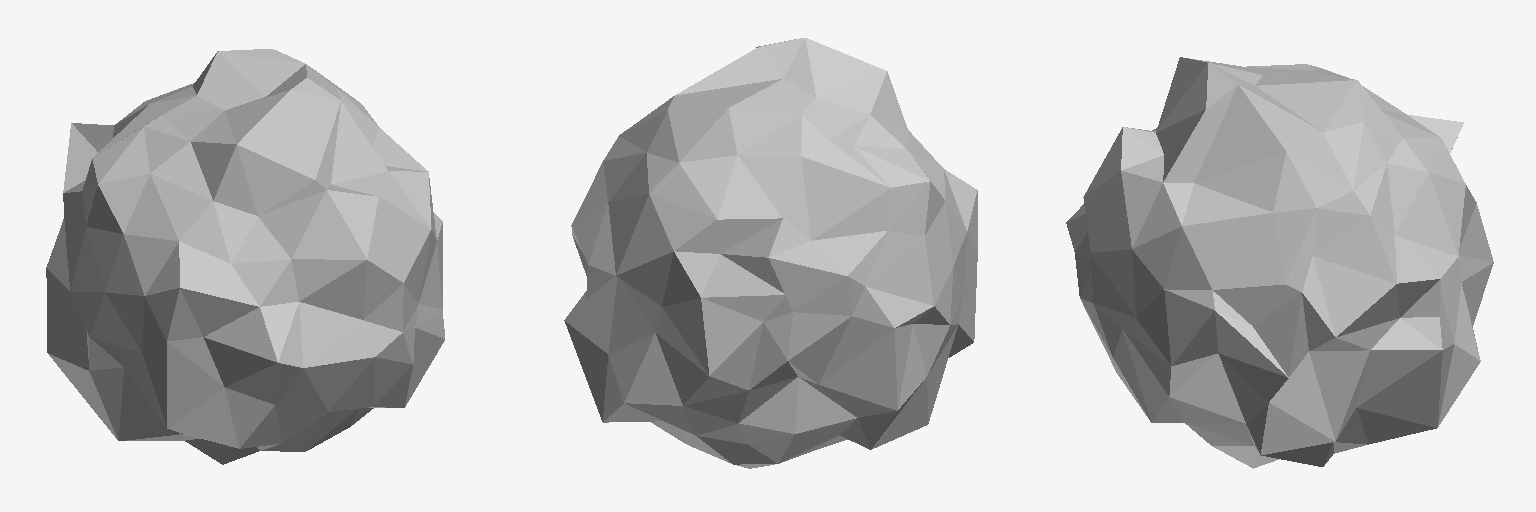
The model's file is fire_000016.obj.
3 views of the same model, side by side, from view 1: azimuth 30°, elevation 25°; view 2: azimuth 150°, elevation 25°; view 3: azimuth 270°, elevation 25° (orthographic).
Visible parts, largest first — view 1: Icosphere; view 2: Icosphere; view 3: Icosphere.
Part boxes in pixels (x1,y1,x2,y2): Icosphere: (46,49,444,464); Icosphere: (564,38,977,468); Icosphere: (1066,57,1493,468).
Size of the model in its own units: 1.52 by 1.59 by 1.61.